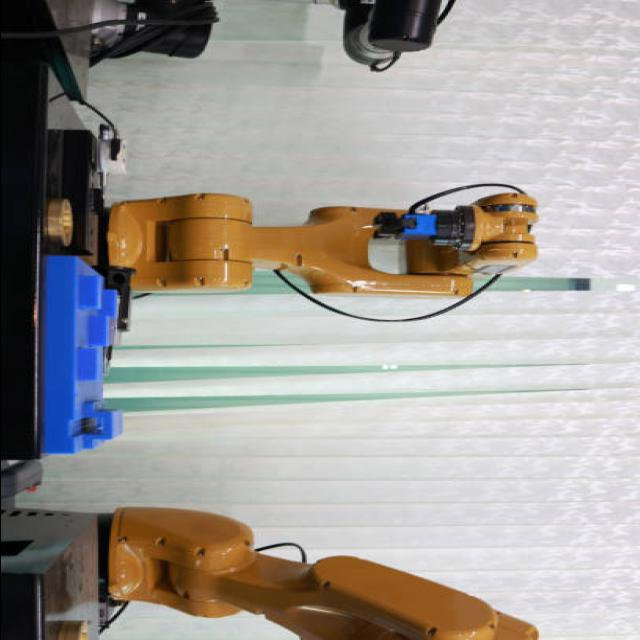Robotic-arm: (103, 174, 553, 317), (100, 506, 544, 640)
